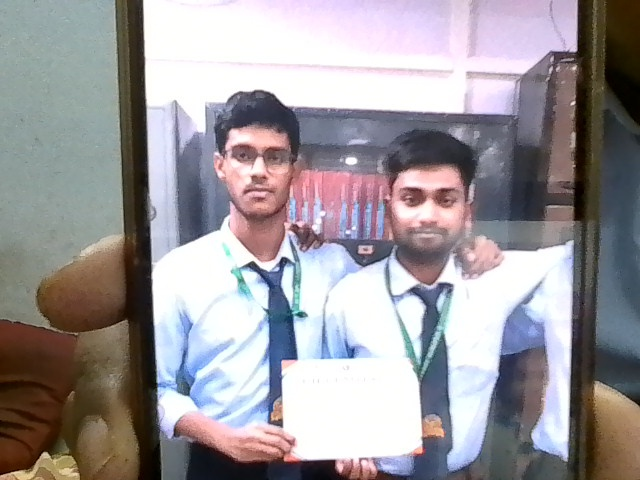real: (373, 126, 476, 272)
